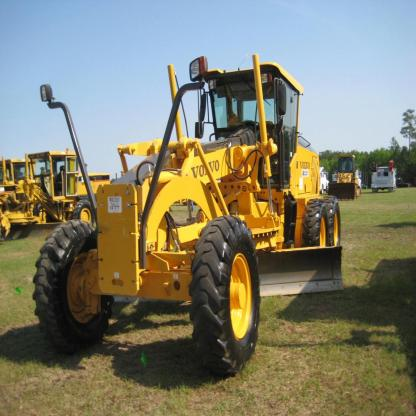bull_dozer/loader/grader: (30, 47, 362, 372)
